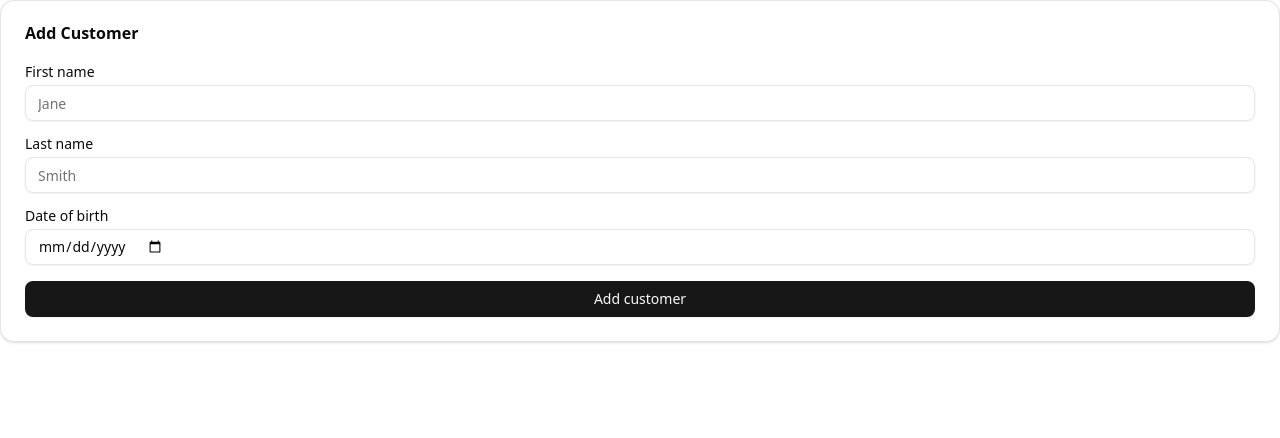
Test: CustomerForm › shows validation errors when submitted empty
Click the button "Add customer". click: (640, 299)
box: x1=25 y1=281 x2=1255 y2=317
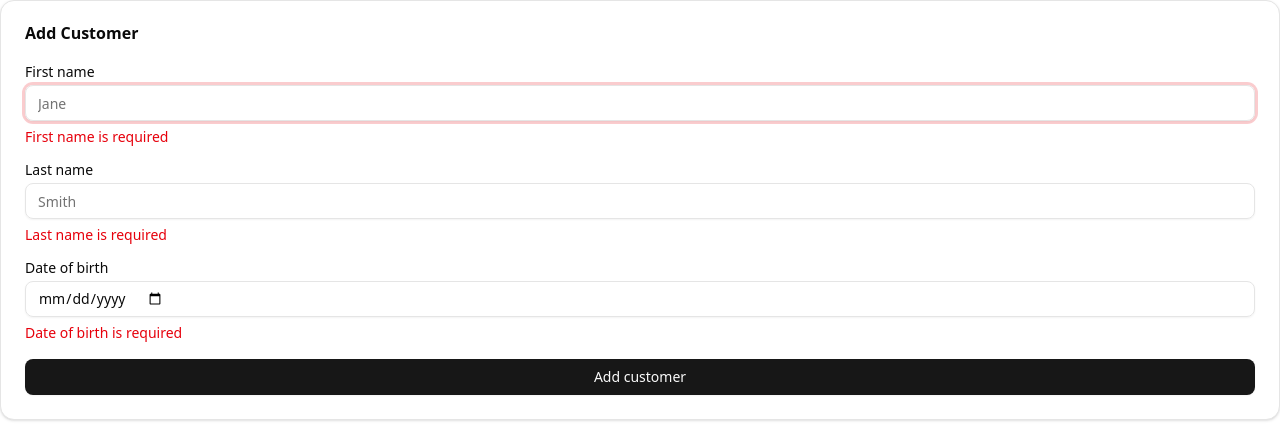
expect the text "First name is required" is shown: met, box x1=25 y1=127 x2=168 y2=146
expect the text "Last name is required" is shown: met, box x1=25 y1=225 x2=167 y2=244
